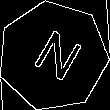N_SW: (23, 24, 83, 88)
